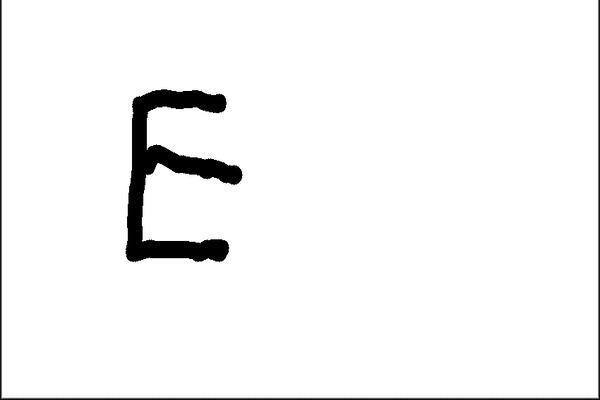E: (116, 81, 245, 269)
